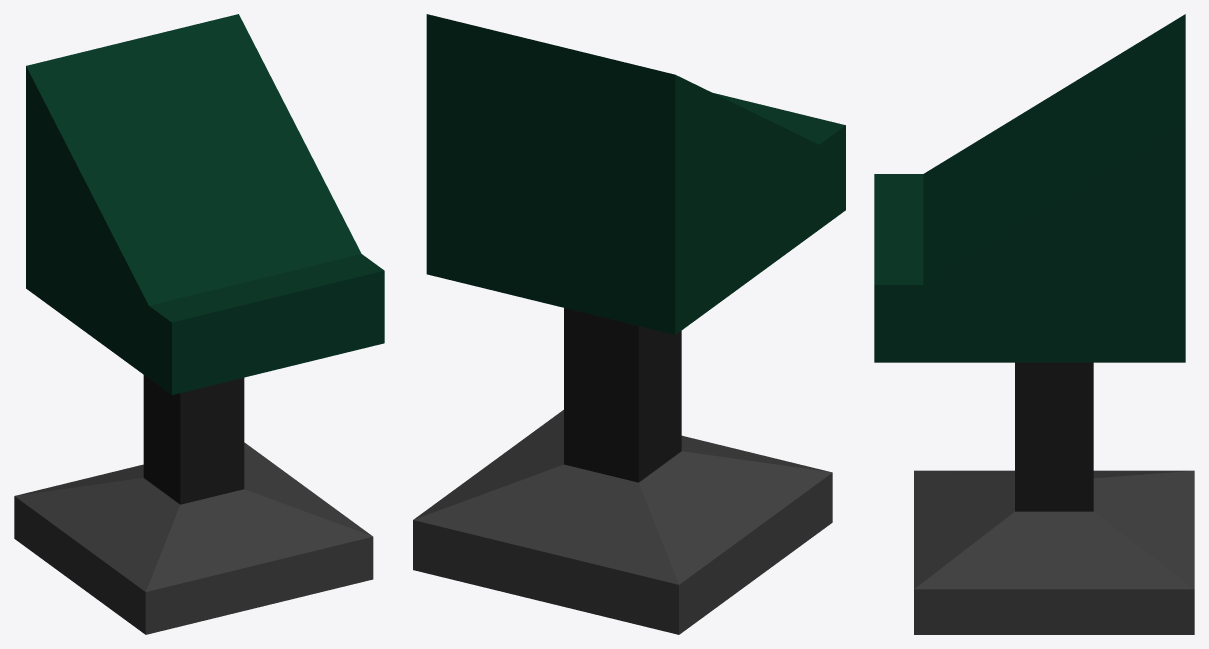
File: NewspaperStand.fbx
3 renders of one model, left to right at view 1: azimuth 30°, elevation 25°; view 2: azimuth 150°, elevation 25°; view 3: azimuth 270°, elevation 25°, orthographic. The views are drawn at different scales.
Visible parts, largest first — view 1: pCube7; view 2: pCube7; view 3: pCube7.
Part boxes in pixels (x1,y1,x2,y2): pCube7: [14, 14, 384, 634]; pCube7: [413, 14, 845, 634]; pCube7: [874, 14, 1194, 634].
Size of the model in its own units: 1.07 by 2.13 by 1.22.
